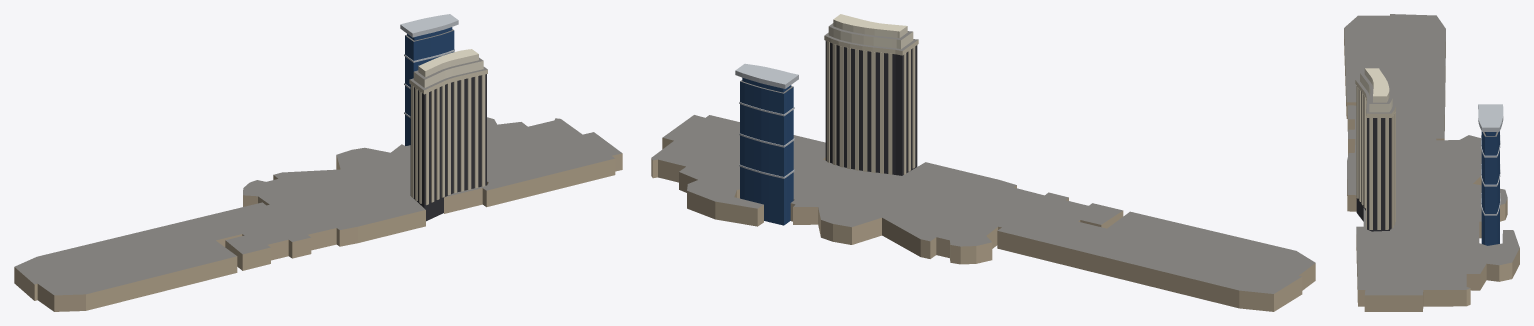
The model's file is palms_r7655651.glb.
The picture shows the model from 3 angles, left to right: view 1: azimuth 30°, elevation 25°; view 2: azimuth 150°, elevation 25°; view 3: azimuth 270°, elevation 25°; orthographic projection. The views are drawn at different scales.
Visible parts, largest first — view 1: Resort_r7655651; view 2: Resort_r7655651; view 3: Resort_r7655651.
Part boxes in pixels (x1,y1,x2,y2): Resort_r7655651: (14,14,622,311); Resort_r7655651: (651,14,1315,311); Resort_r7655651: (1344,14,1519,311).
Size of the model in its own units: 582 by 142 by 154.
